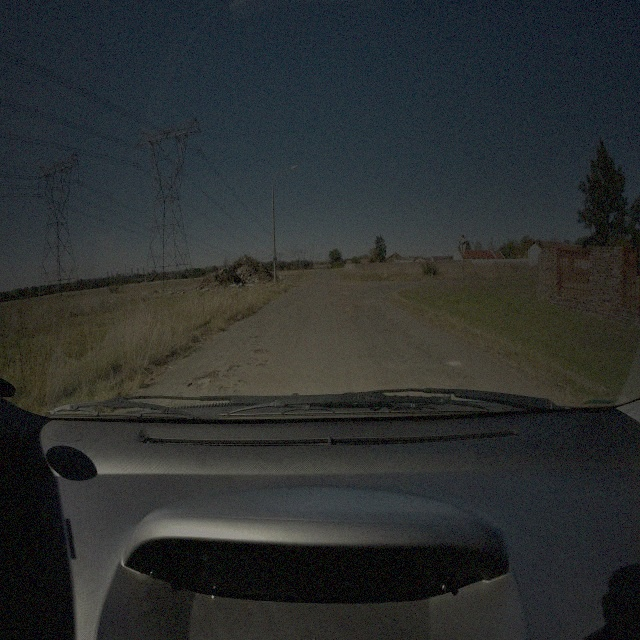pothole: (206, 367, 220, 381), (252, 349, 266, 356), (219, 383, 230, 391), (344, 306, 354, 314), (227, 363, 235, 373), (355, 304, 366, 310)
